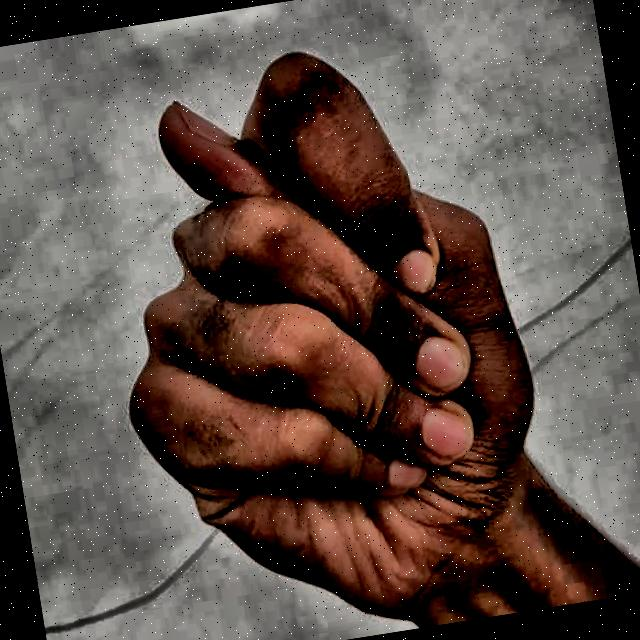Ta: (54, 0, 638, 640)
